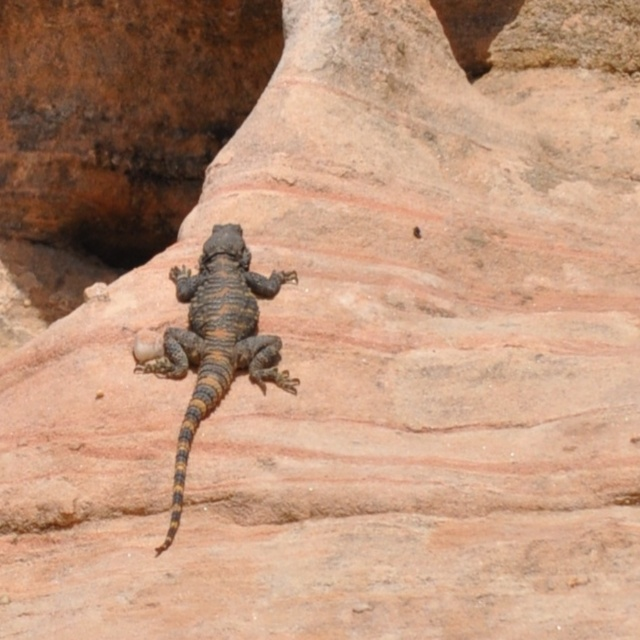Lizard: (128, 220, 304, 478)
